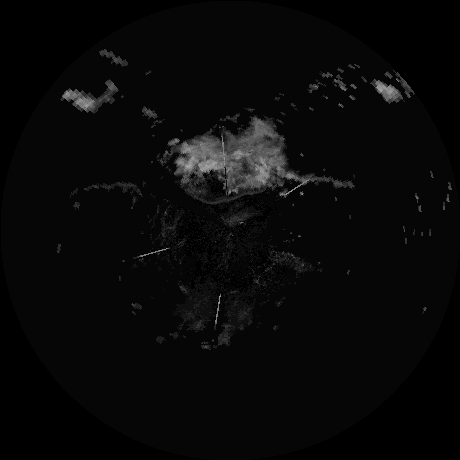frontgust: (189, 183, 270, 205)
